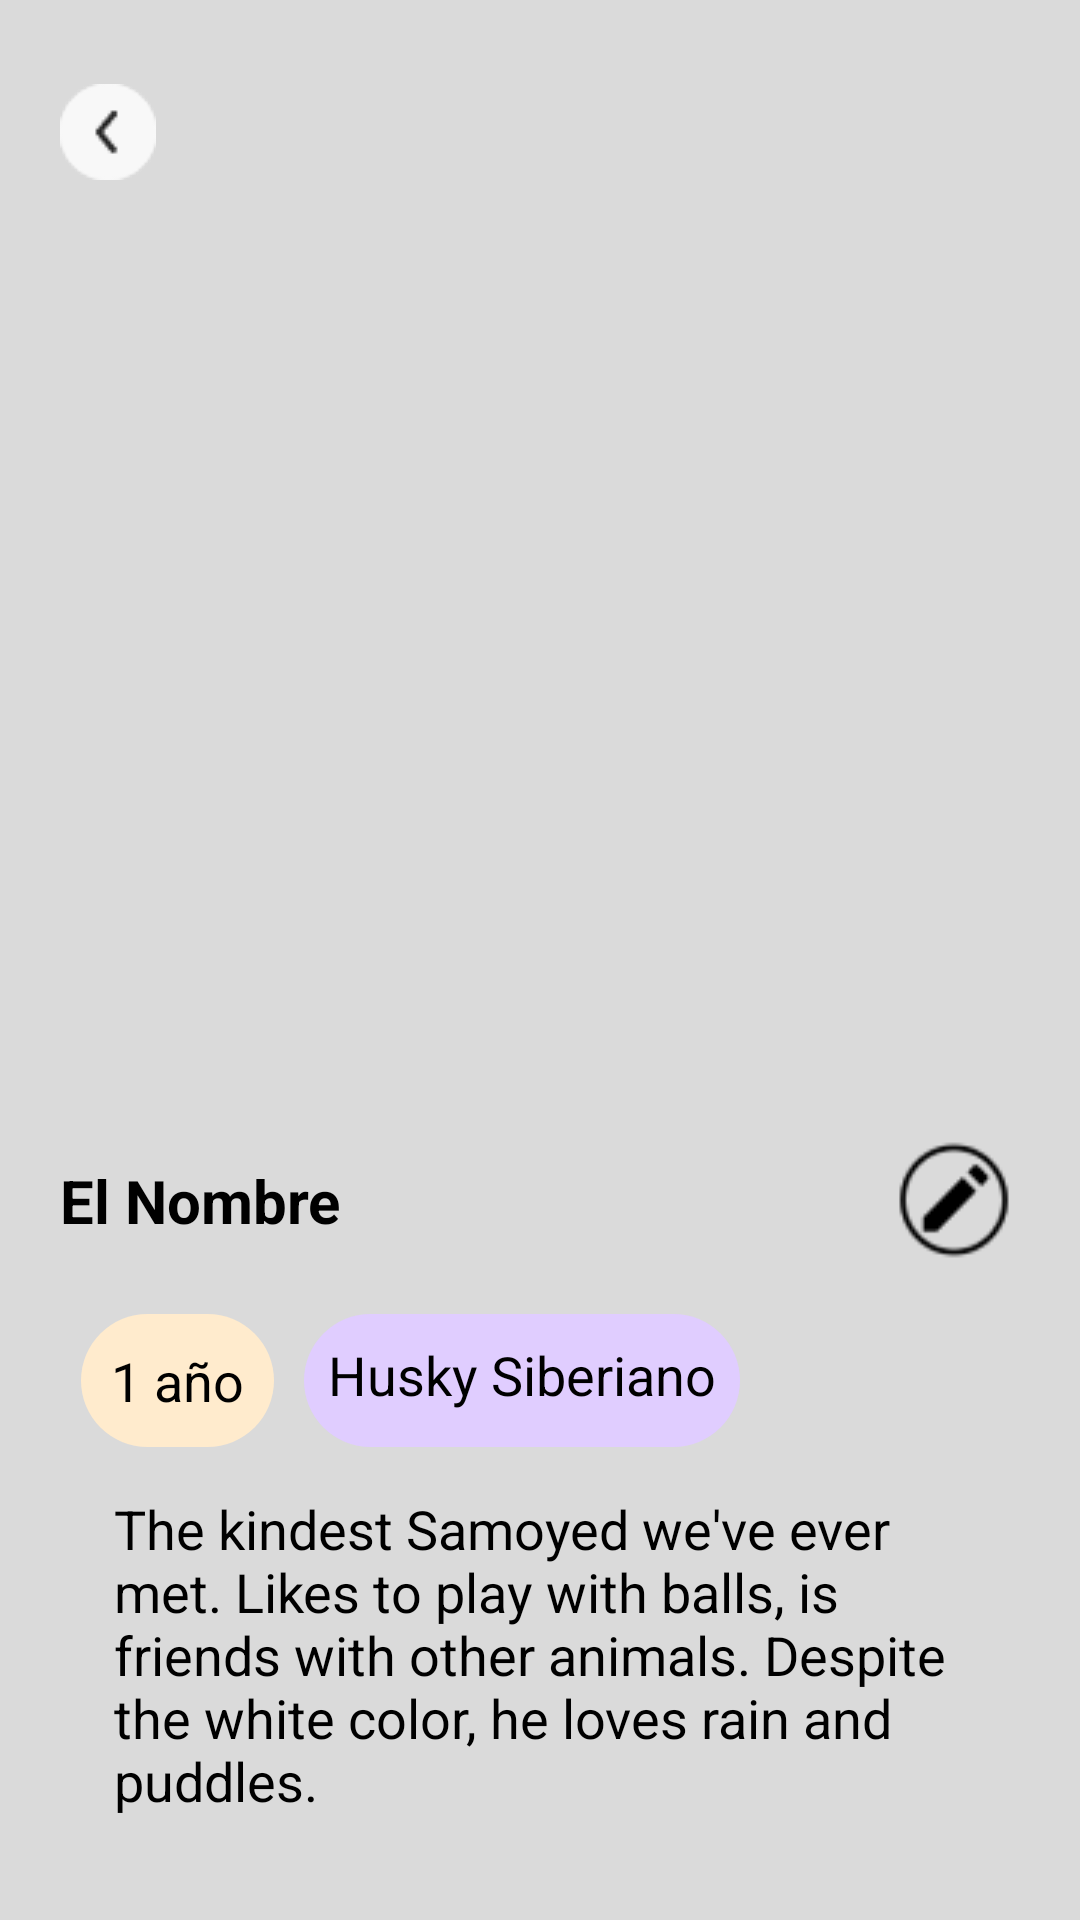

Where to tap for icons on this 1080 x 1920 app screen, as point (x, y):
editar: point (954, 1200)
